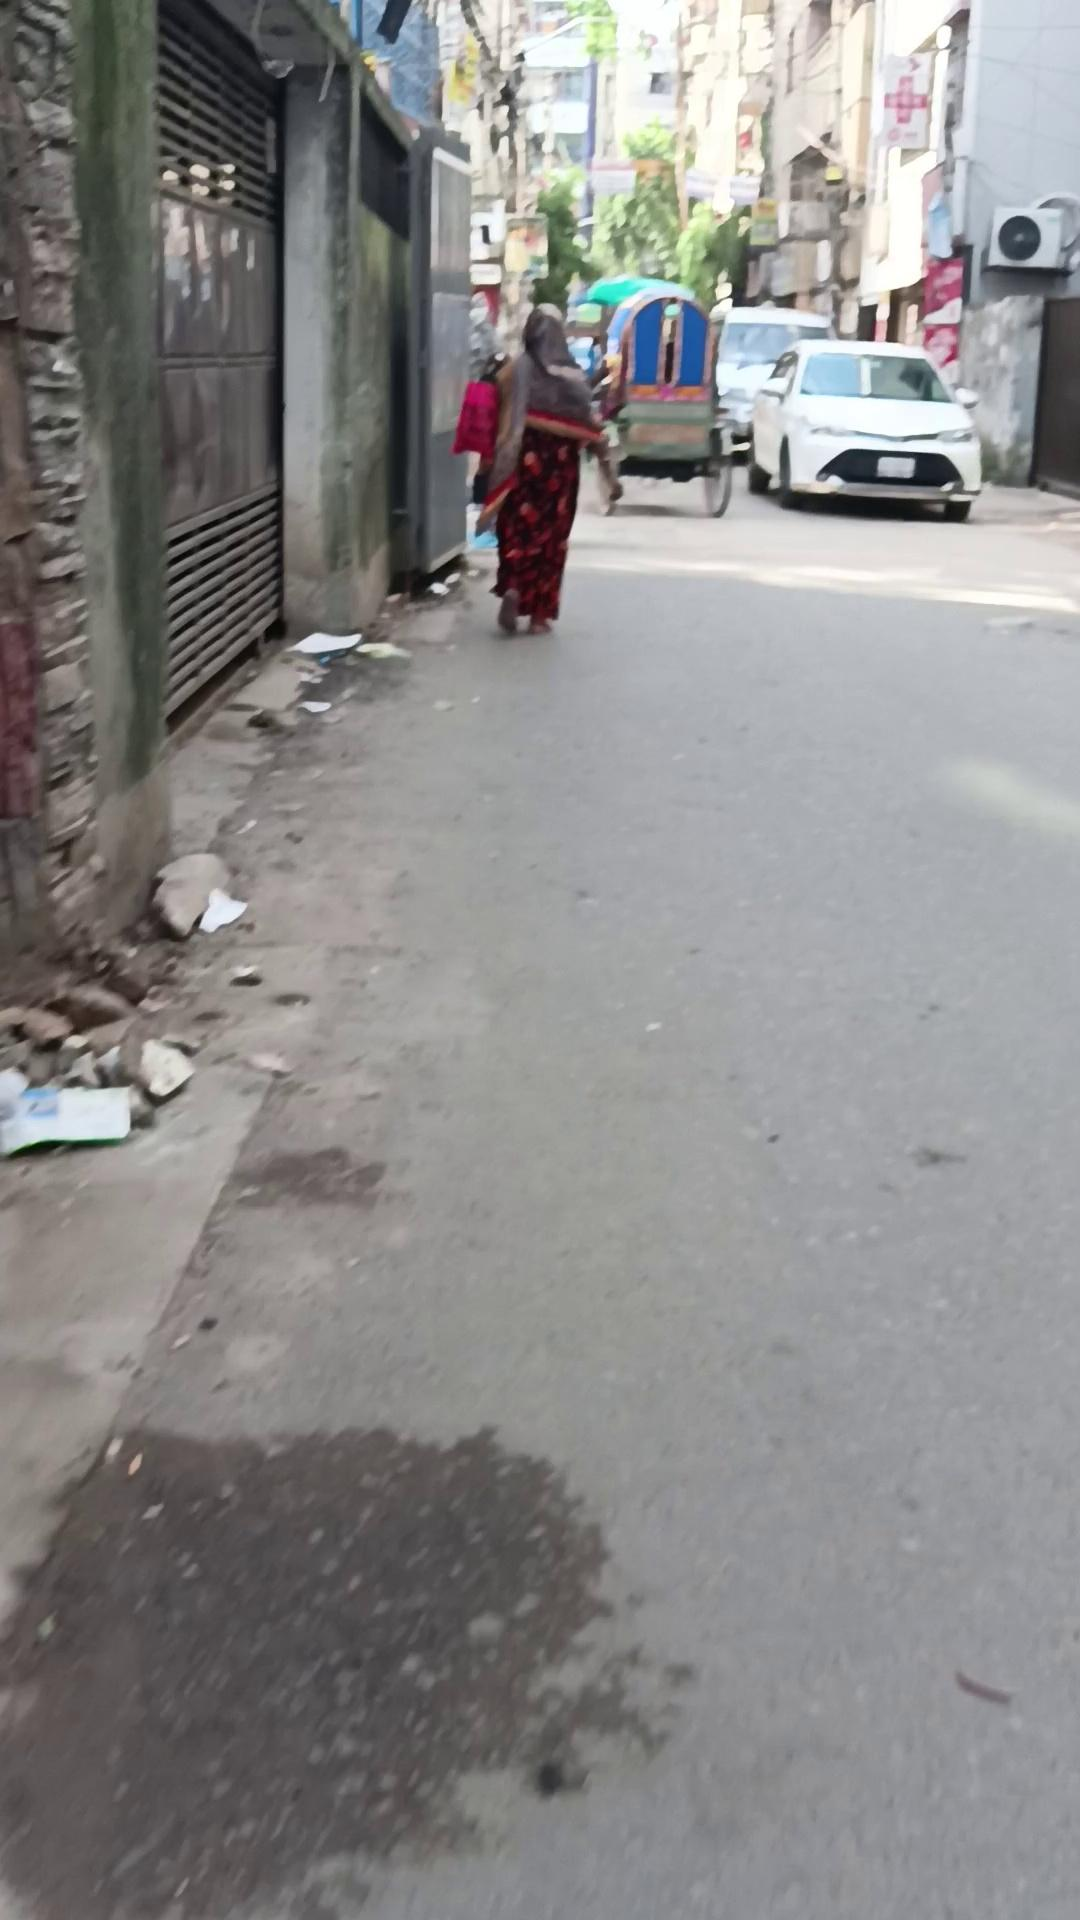Car: (746, 338, 984, 522)
Motorcycle: (12, 912, 380, 1158)
Muddy road: (474, 302, 613, 635)
Obstacle: (64, 1, 172, 942)
Pothole: (589, 288, 735, 518)
